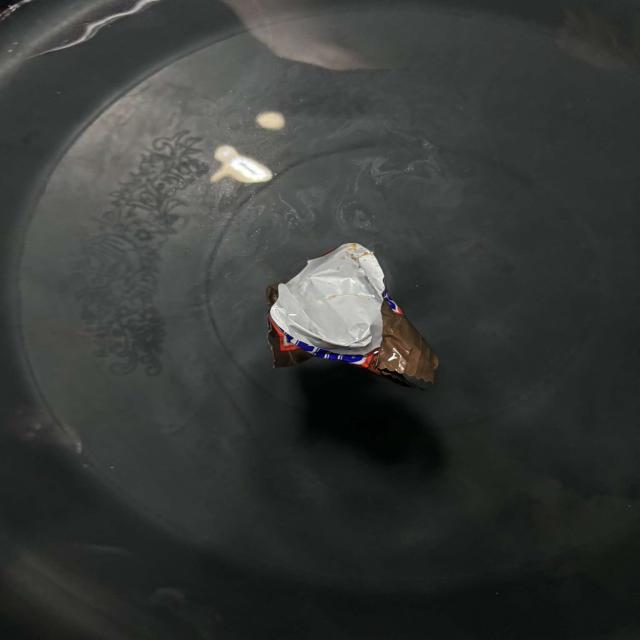Plastic Wrapper: (242, 225, 457, 409)
